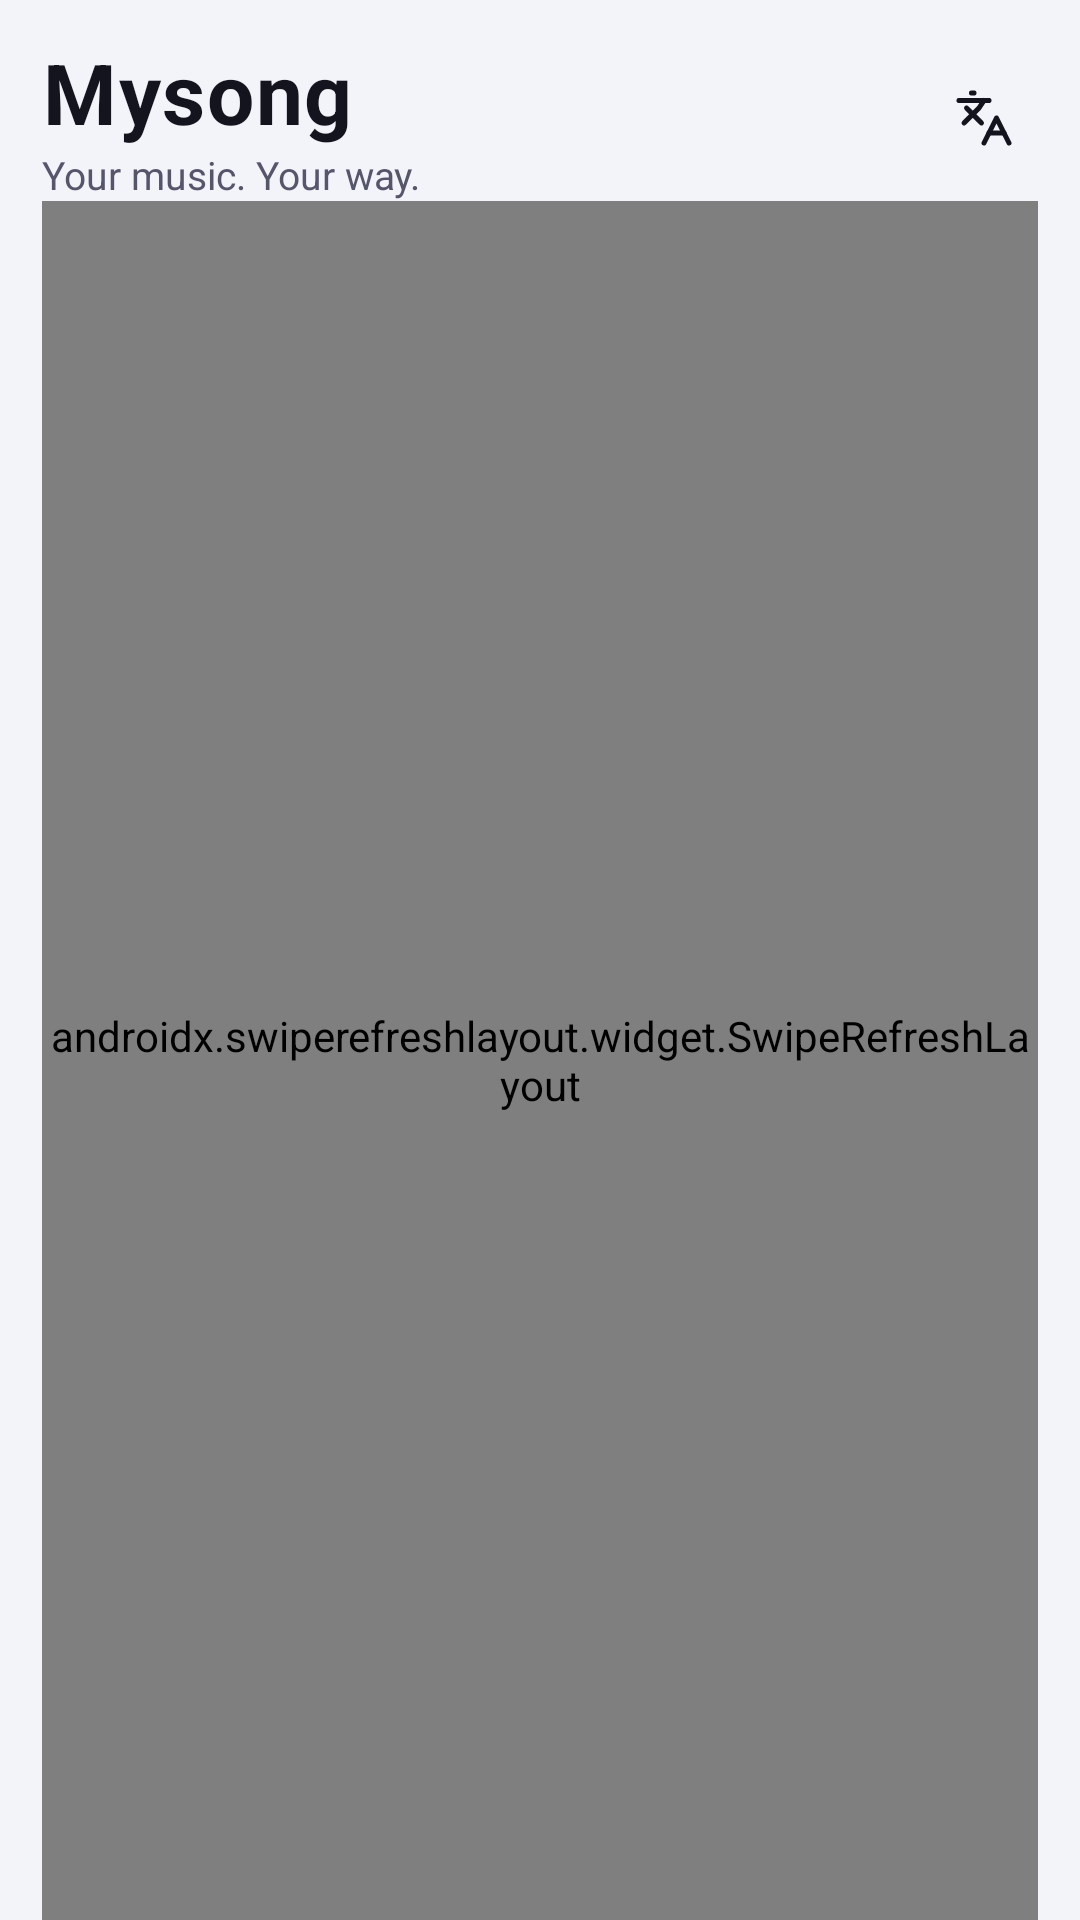

Locate icon controls on the screen. Image size 1080 × 1920, boxes as (x1, y1, x2, y2).
language: (956, 90, 1012, 146)
